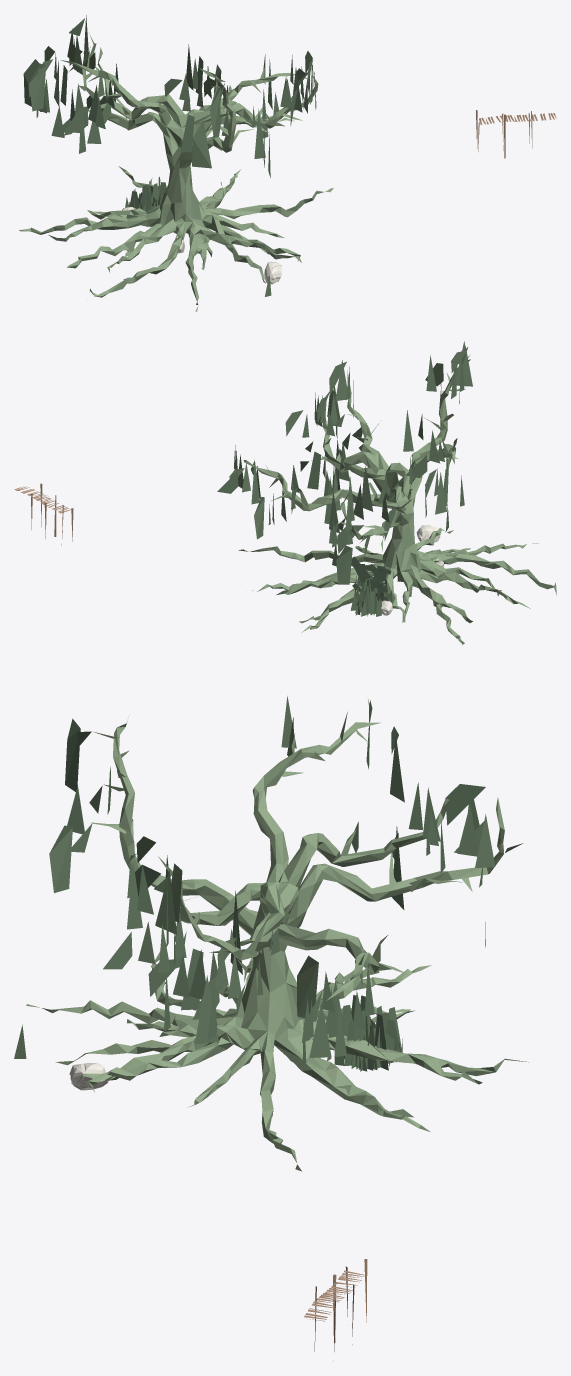
Rendered from swamp_b.glb.
3 views of the same model, one above another, from view 1: azimuth 30°, elevation 25°; view 2: azimuth 150°, elevation 25°; view 3: azimuth 270°, elevation 25° (orthographic). The views are drawn at different scales.
Visible parts, largest first — view 1: swamp_hero_tree_b_LOD0, reeds_dead_LOD0, wooden_walkway_900_LOD0, Clutter_medium_b_LOD0; view 2: swamp_hero_tree_b_LOD0, reeds_dead_LOD0, wooden_walkway_900_LOD0, Clutter_medium_b_LOD0; view 3: swamp_hero_tree_b_LOD0, reeds_dead_LOD0, wooden_walkway_900_LOD0.
Boxes of the visible parts, x1,y1,x2,y2 form: swamp_hero_tree_b_LOD0: (19,33,333,311); reeds_dead_LOD0: (23,15,316,296); wooden_walkway_900_LOD0: (476,110,556,158); Clutter_medium_b_LOD0: (122,207,281,284); swamp_hero_tree_b_LOD0: (238,354,556,644); reeds_dead_LOD0: (217,341,472,616); wooden_walkway_900_LOD0: (14,483,73,545); Clutter_medium_b_LOD0: (380,525,444,615); swamp_hero_tree_b_LOD0: (26,712,528,1171); reeds_dead_LOD0: (14,696,495,1071); wooden_walkway_900_LOD0: (304,1259,367,1351).
Size of the model in its own units: 68.19 by 31.68 by 39.97.
